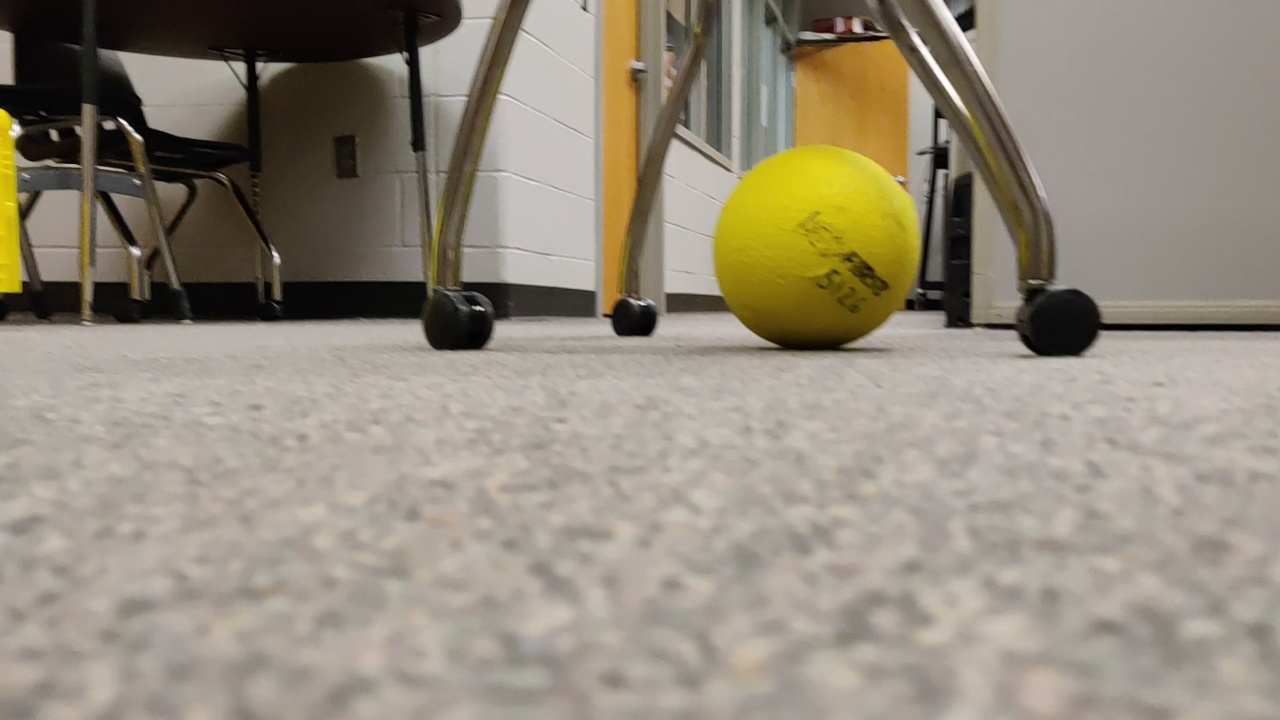Ball: (712, 144, 928, 349)
